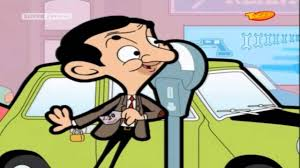mrbean: (44, 15, 179, 167)
